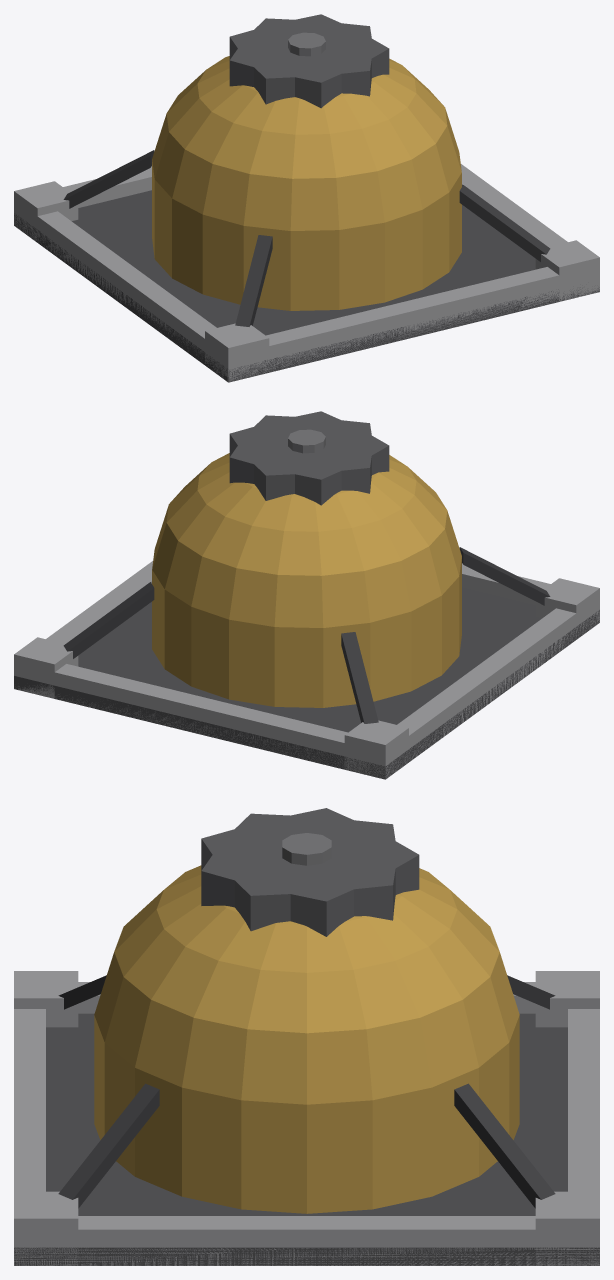
File: vge_large_oxygen_tank.obj
3 views of the same model, one above another, from view 1: azimuth 30°, elevation 25°; view 2: azimuth 150°, elevation 25°; view 3: azimuth 270°, elevation 25° (orthographic). The views are drawn at different scales.
Visible parts, largest first — view 1: vge_large_oxygen_tank_9, vge_large_oxygen_tank_0, vge_large_oxygen_tank_1, vge_large_oxygen_tank_10, vge_large_oxygen_tank_3, vge_large_oxygen_tank_5, vge_large_oxygen_tank_7, vge_large_oxygen_tank_4, vge_large_oxygen_tank_14, vge_large_oxygen_tank_6, vge_large_oxygen_tank_12, vge_large_oxygen_tank_2 (+2 smaller); view 2: vge_large_oxygen_tank_9, vge_large_oxygen_tank_0, vge_large_oxygen_tank_10, vge_large_oxygen_tank_2, vge_large_oxygen_tank_3, vge_large_oxygen_tank_6, vge_large_oxygen_tank_8, vge_large_oxygen_tank_4, vge_large_oxygen_tank_15, vge_large_oxygen_tank_5, vge_large_oxygen_tank_13, vge_large_oxygen_tank_1 (+2 smaller); view 3: vge_large_oxygen_tank_9, vge_large_oxygen_tank_0, vge_large_oxygen_tank_4, vge_large_oxygen_tank_10, vge_large_oxygen_tank_1, vge_large_oxygen_tank_2, vge_large_oxygen_tank_8, vge_large_oxygen_tank_7, vge_large_oxygen_tank_14, vge_large_oxygen_tank_15, vge_large_oxygen_tank_5, vge_large_oxygen_tank_6 (+4 smaller).
Part boxes in pixels (bbox=[...]): vge_large_oxygen_tank_9: bbox=[152, 56, 461, 310]; vge_large_oxygen_tank_0: bbox=[14, 190, 599, 382]; vge_large_oxygen_tank_1: bbox=[216, 265, 599, 381]; vge_large_oxygen_tank_10: bbox=[229, 14, 389, 108]; vge_large_oxygen_tank_3: bbox=[25, 208, 216, 366]; vge_large_oxygen_tank_5: bbox=[205, 323, 269, 381]; vge_large_oxygen_tank_7: bbox=[535, 240, 599, 301]; vge_large_oxygen_tank_4: bbox=[461, 164, 567, 246]; vge_large_oxygen_tank_14: bbox=[459, 185, 550, 261]; vge_large_oxygen_tank_6: bbox=[14, 181, 78, 240]; vge_large_oxygen_tank_12: bbox=[235, 235, 272, 326]; vge_large_oxygen_tank_2: bbox=[14, 166, 151, 232]; vge_large_oxygen_tank_9: bbox=[152, 453, 461, 707]; vge_large_oxygen_tank_0: bbox=[14, 587, 599, 779]; vge_large_oxygen_tank_10: bbox=[229, 411, 389, 505]; vge_large_oxygen_tank_2: bbox=[14, 664, 397, 778]; vge_large_oxygen_tank_3: bbox=[397, 605, 588, 770]; vge_large_oxygen_tank_6: bbox=[344, 720, 408, 779]; vge_large_oxygen_tank_8: bbox=[14, 637, 78, 698]; vge_large_oxygen_tank_4: bbox=[46, 561, 152, 643]; vge_large_oxygen_tank_15: bbox=[63, 582, 154, 658]; vge_large_oxygen_tank_5: bbox=[535, 578, 599, 626]; vge_large_oxygen_tank_13: bbox=[341, 632, 378, 723]; vge_large_oxygen_tank_1: bbox=[462, 563, 599, 629]; vge_large_oxygen_tank_9: bbox=[94, 865, 519, 1213]; vge_large_oxygen_tank_0: bbox=[14, 1013, 599, 1265]; vge_large_oxygen_tank_4: bbox=[46, 1216, 567, 1265]; vge_large_oxygen_tank_10: bbox=[201, 808, 419, 936]; vge_large_oxygen_tank_1: bbox=[14, 1009, 45, 1265]; vge_large_oxygen_tank_2: bbox=[568, 1009, 599, 1265]; vge_large_oxygen_tank_8: bbox=[535, 1191, 599, 1265]; vge_large_oxygen_tank_7: bbox=[14, 1191, 78, 1265]; vge_large_oxygen_tank_14: bbox=[58, 1083, 159, 1208]; vge_large_oxygen_tank_15: bbox=[454, 1083, 555, 1208]; vge_large_oxygen_tank_5: bbox=[14, 971, 78, 1027]; vge_large_oxygen_tank_6: bbox=[535, 971, 599, 1027].
Bounding box in the file's own units: 2.92 × 1.64 × 2.92.
